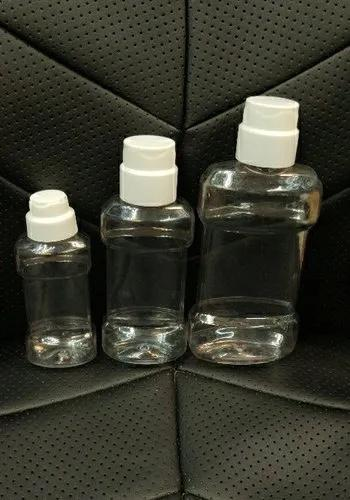glass: (189, 96, 322, 364)
plastic: (189, 96, 322, 364), (100, 135, 194, 364), (15, 189, 95, 367)
